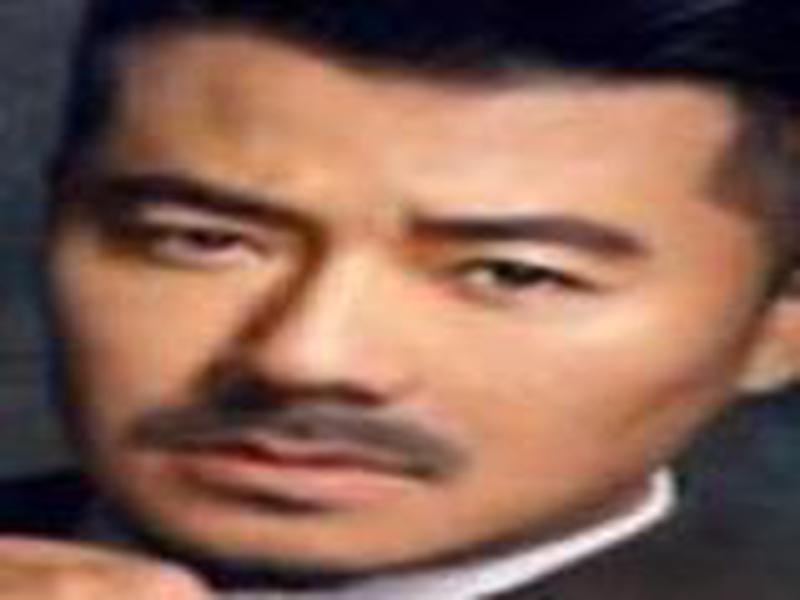without_mask: (46, 51, 748, 576)
